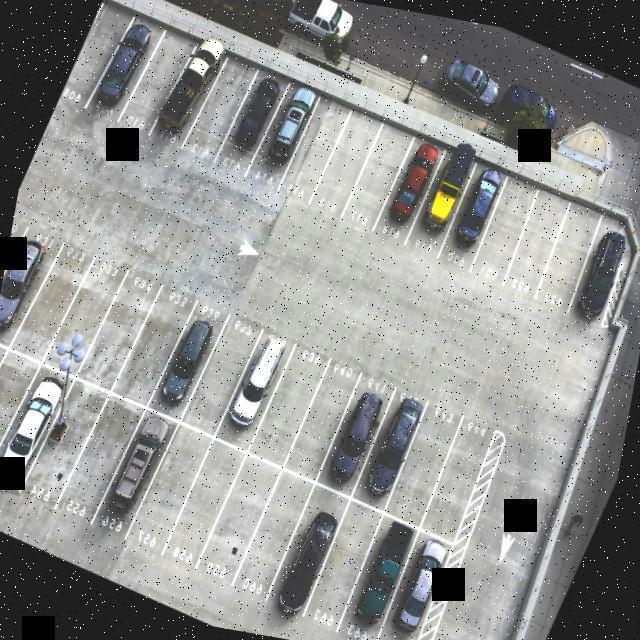space-empty: (231, 466, 319, 607), (301, 495, 388, 636), (161, 432, 248, 570), (193, 448, 280, 584), (128, 422, 215, 558), (56, 388, 143, 522), (416, 416, 498, 546), (113, 281, 195, 410), (81, 266, 162, 396), (384, 403, 466, 531), (247, 343, 328, 472), (14, 236, 94, 366), (285, 357, 365, 483), (46, 255, 125, 381), (182, 312, 261, 437), (531, 199, 607, 321), (339, 116, 415, 235), (309, 105, 386, 222), (116, 26, 193, 142), (182, 50, 259, 164), (468, 170, 541, 287), (502, 184, 575, 299), (282, 94, 356, 205), (58, 5, 125, 116), (0, 346, 37, 470), (0, 214, 25, 338)
space-occupied: (265, 481, 351, 619), (22, 373, 108, 505), (335, 510, 420, 640), (95, 408, 176, 542), (347, 386, 429, 513), (372, 130, 451, 255), (560, 209, 638, 335), (317, 371, 396, 495), (374, 525, 461, 637), (218, 326, 295, 451), (152, 300, 226, 424), (154, 34, 232, 151), (0, 362, 70, 490), (403, 144, 479, 260), (438, 160, 512, 274), (0, 221, 60, 354), (91, 14, 161, 127), (221, 67, 292, 175), (250, 81, 322, 187)
